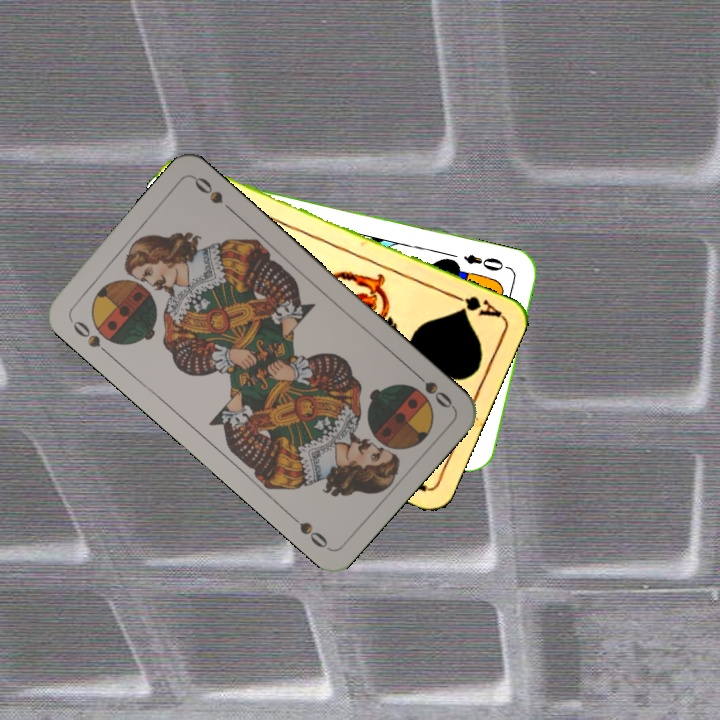EO: (459, 250, 512, 274)
GA: (447, 289, 504, 320)
SO: (65, 314, 117, 359), (408, 366, 455, 411)
